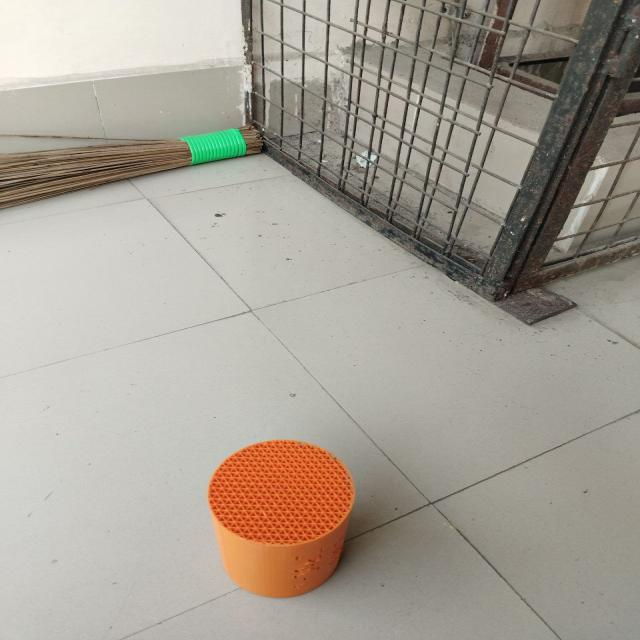Cylinder: (206, 438, 356, 598)
